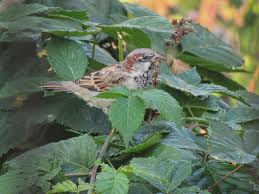home_sparrow: (43, 43, 175, 123)
